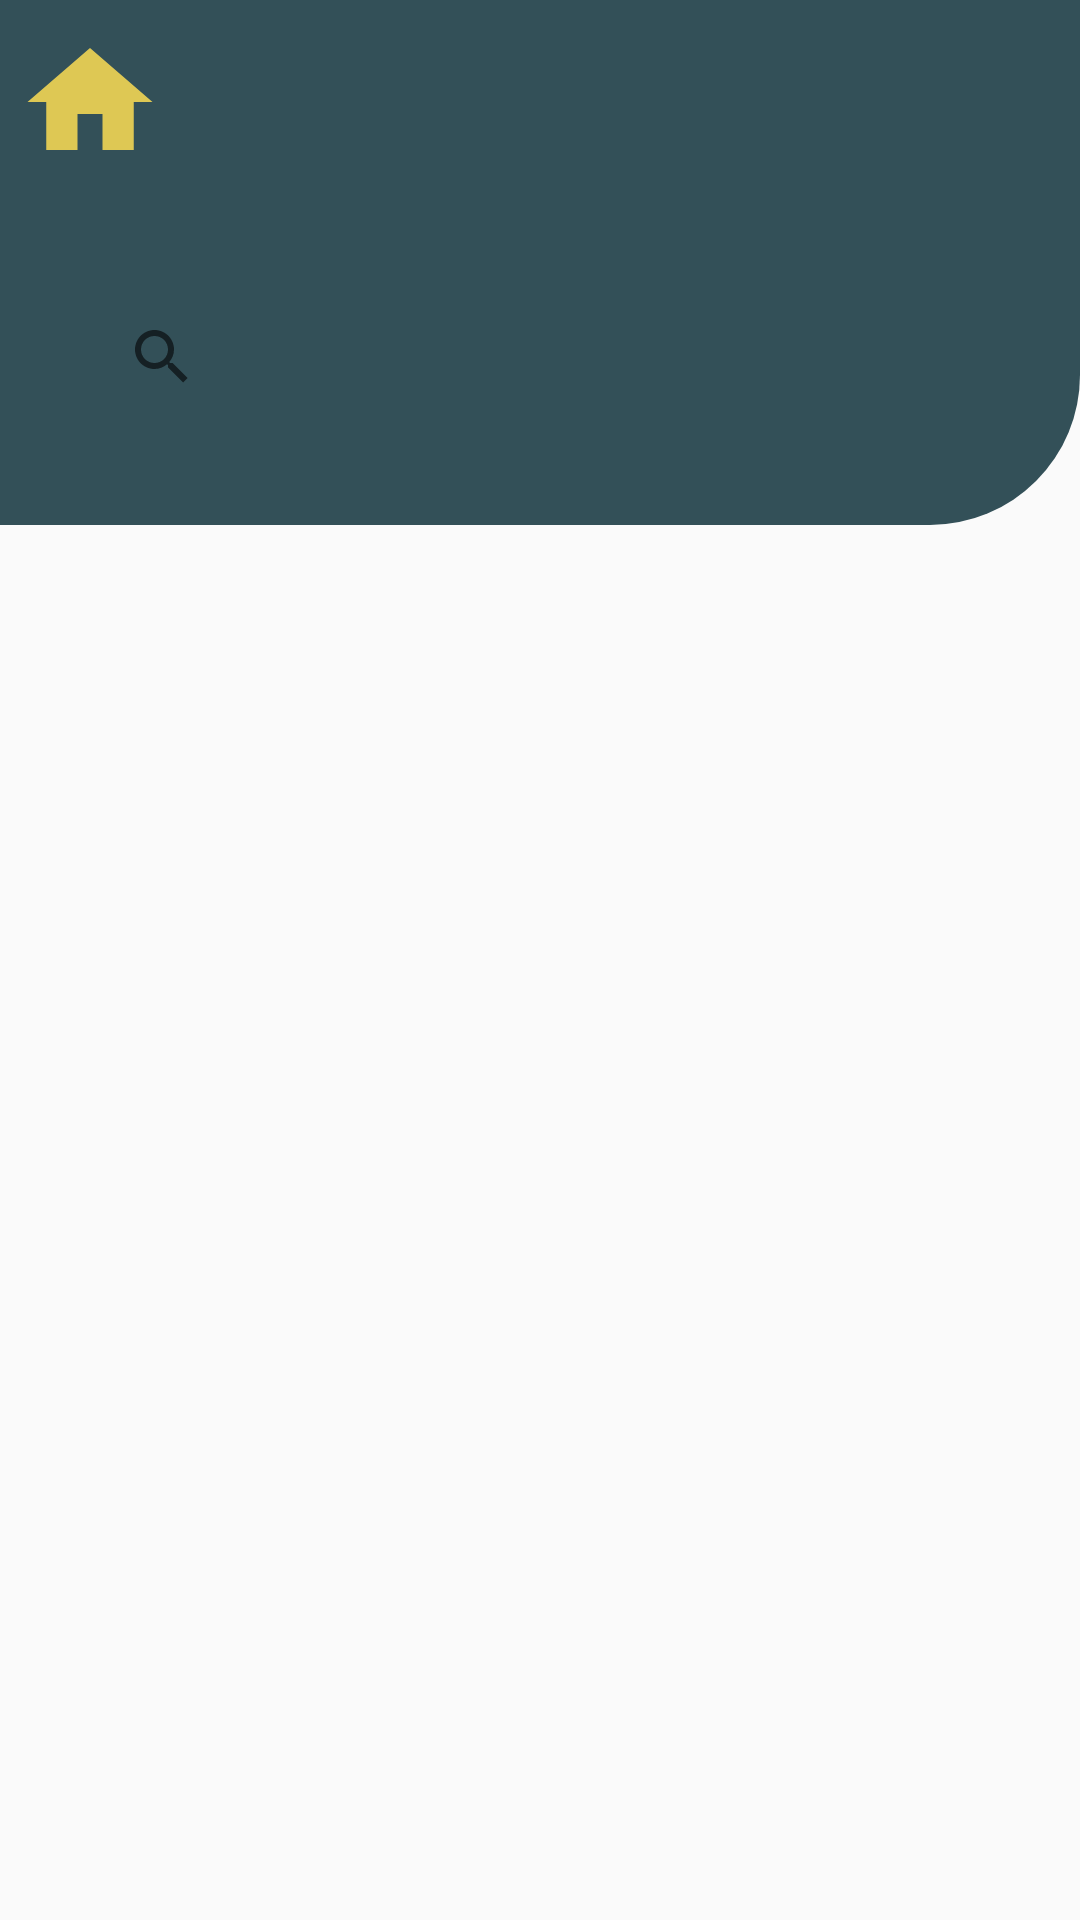

Where to tap for icons on this 1080px x 1920px app screen, as [x,y]:
home: [90,99]
